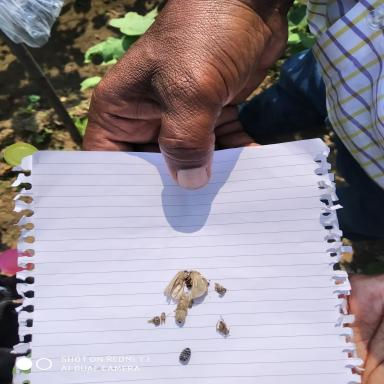abw: (164, 268, 188, 301), (186, 269, 212, 295), (173, 293, 194, 325)
